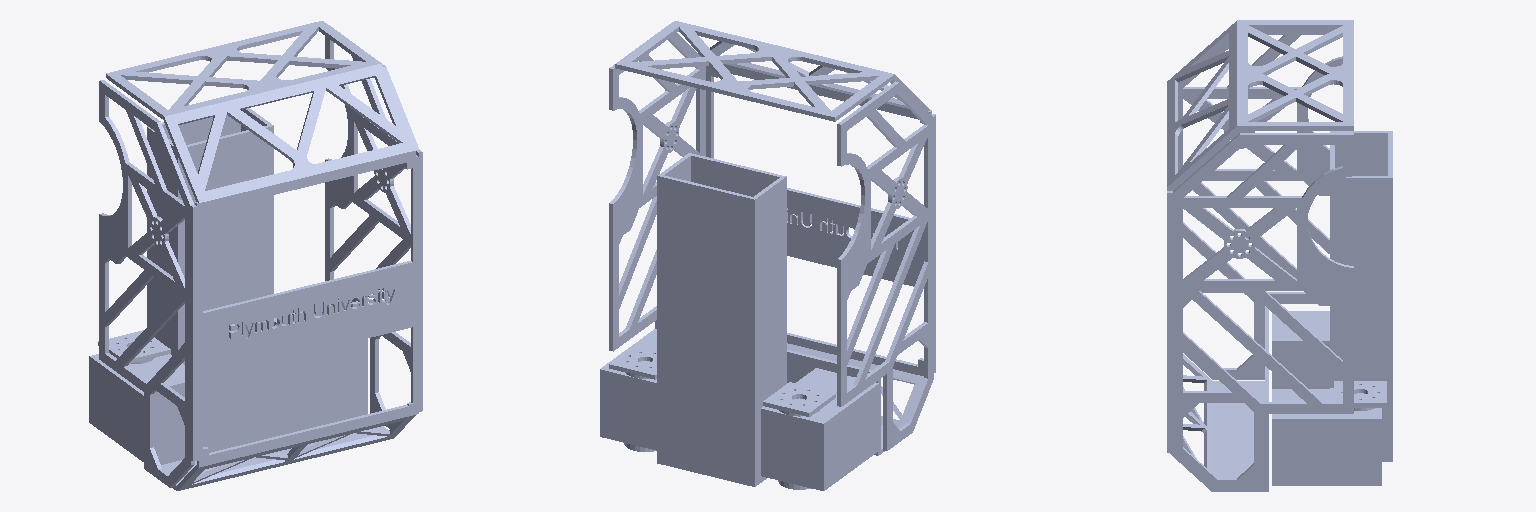
The robot description file, URDF, robot "gummi":
<?xml version="1.0" ?>
<robot name="gummi">
	<link name="base_link"/>
	<joint name="set_worldaxis" type="fixed">
		<origin rpy="1.570796326795 0 0" xyz="0.0 0.0 0.0"/>
		<parent link="base_link"/>
		<child link="base"/>
		<axis xyz="0 0 0"/>
		<limit effort="0" lower="-1" upper="1" velocity="0"/>
	</joint>
	<link name="base">
		<inertial>
			<origin rpy="0.0 0.0 0.0" xyz="0.0 0.0 0.0"/>
			<mass value="0"/>
			<inertia ixx="0" ixy="0" ixz="0" iyy="0" iyz="0" izz="0"/>
		</inertial>
		<visual>
			<origin rpy="0.0 0.0 0.0" xyz="0.0 0.0 0.0"/>
			<geometry>
				<mesh filename="package://scott_torso/meshes/base.stl"/>
			</geometry>
			<material name="">
				<color rgba="0.792156862745098 0.819607843137255 0.933333333333333 1"/>
			</material>
		</visual>
		<collision>
			<origin rpy="0.0 0.0 0.0" xyz="0.0 0.0 0.0"/>
			<geometry>
				<mesh filename="package://scott_torso/meshes/base.stl"/>
			</geometry>
		</collision>
	</link>
	<link name="torso">
		<inertial>
			<origin rpy="0.0 0.0 0.0" xyz="0.0 0.0 0.0"/>
			<mass value="0"/>
			<inertia ixx="0" ixy="0" ixz="0" iyy="0" iyz="0" izz="0"/>
		</inertial>
		<visual>
			<origin rpy="0.0 0.0 0.0" xyz="0.0 0.0 0.0"/>
			<geometry>
				<mesh filename="package://scott_torso/meshes/torso.stl"/>
			</geometry>
			<material name="">
				<color rgba="0.792156862745098 0.819607843137255 0.933333333333333 1"/>
			</material>
		</visual>
		<collision>
			<origin rpy="0.0 0.0 0.0" xyz="0.0 0.0 0.0"/>
			<geometry>
				<mesh filename="package://scott_torso/meshes/torso.stl"/>
			</geometry>
		</collision>
	</link>
	<link name="dummy_left_leg">
		<inertial>
			<origin rpy="0.0 0.0 0.0" xyz="0.0 0.0 0.0"/>
			<mass value="0"/>
			<inertia ixx="0" ixy="0" ixz="0" iyy="0" iyz="0" izz="0"/>
		</inertial>
		<visual>
			<origin rpy="0.0 0.0 0.0" xyz="0.0 0.0 0.0"/>
			<geometry>
				<mesh filename="package://scott_torso/meshes/dummy_left_leg.stl"/>
			</geometry>
			<material name="">
				<color rgba="0.792156862745098 0.819607843137255 0.933333333333333 1"/>
			</material>
		</visual>
		<collision>
			<origin rpy="0.0 0.0 0.0" xyz="0.0 0.0 0.0"/>
			<geometry>
				<mesh filename="package://scott_torso/meshes/dummy_left_leg.stl"/>
			</geometry>
		</collision>
	</link>
	<joint name="right_J0" type="fixed">
		<origin rpy="0.0 0.0 0.0" xyz="0.03560000000001438 0.5199899999999991 -0.0129999998956779"/>
		<parent link="base"/>
		<child link="torso"/>
		<axis xyz="0 0 0"/>
		<limit effort="0" lower="-1" upper="1" velocity="0"/>
	</joint>
	<joint name="left_J0" type="fixed">
		<origin rpy="0.0 0.0 0.0" xyz="-0.0712000000000009 -7.105427357601002e-17 -8.135714324453147e-15"/>
		<parent link="torso"/>
		<child link="dummy_left_leg"/>
		<axis xyz="0 0 0"/>
		<limit effort="0" lower="-1" upper="1" velocity="0"/>
	</joint>
</robot>

--- Facts derived from the render (not from the file) ---
The picture shows the robot from 3 angles, left to right: view 1: azimuth 30°, elevation 25°; view 2: azimuth 150°, elevation 25°; view 3: azimuth 270°, elevation 25°; orthographic projection.
Model gummi with 4 links and 3 joints (3 fixed), rooted at base_link, posed all joints at 0.
Links seen in each view (by area): view 1: torso, dummy_left_leg; view 2: torso, dummy_left_leg, base; view 3: torso, base, dummy_left_leg.
Boxes of the visible links, x1=… form: torso: x1=99, y1=21, x2=422, y2=490; dummy_left_leg: x1=89, y1=330, x2=184, y2=461; torso: x1=609, y1=21, x2=935, y2=486; dummy_left_leg: x1=761, y1=368, x2=878, y2=490; base: x1=600, y1=329, x2=656, y2=451; torso: x1=1167, y1=20, x2=1392, y2=491; base: x1=1272, y1=381, x2=1386, y2=485; dummy_left_leg: x1=1272, y1=311, x2=1329, y2=388.
Size in the robot's own frame: 0.169 by 0.1441 by 0.2576 metres.
Meshes: 3 distinct files referenced, 3 mesh visuals loaded (3 binary STL).
